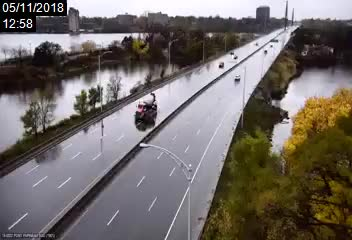personal_car: (217, 61, 226, 68), (234, 74, 241, 82)
truck: (133, 96, 159, 125)
